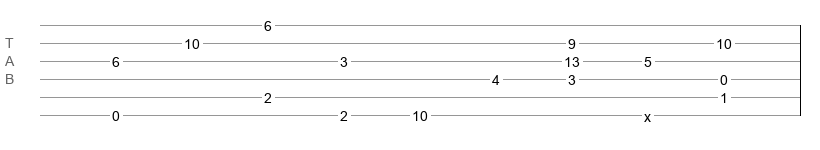0: (112, 108, 120, 118), (720, 72, 728, 82)
1: (720, 90, 728, 100)
10: (184, 36, 200, 46), (412, 108, 428, 118), (716, 36, 732, 46)
13: (564, 54, 580, 64)
2: (264, 90, 272, 100), (340, 108, 348, 118)
3: (340, 54, 348, 64), (568, 72, 576, 82)
4: (492, 72, 500, 82)
5: (644, 54, 652, 64)
6: (112, 54, 120, 64), (264, 18, 272, 28)
9: (568, 36, 576, 46)
x: (644, 109, 651, 117)
